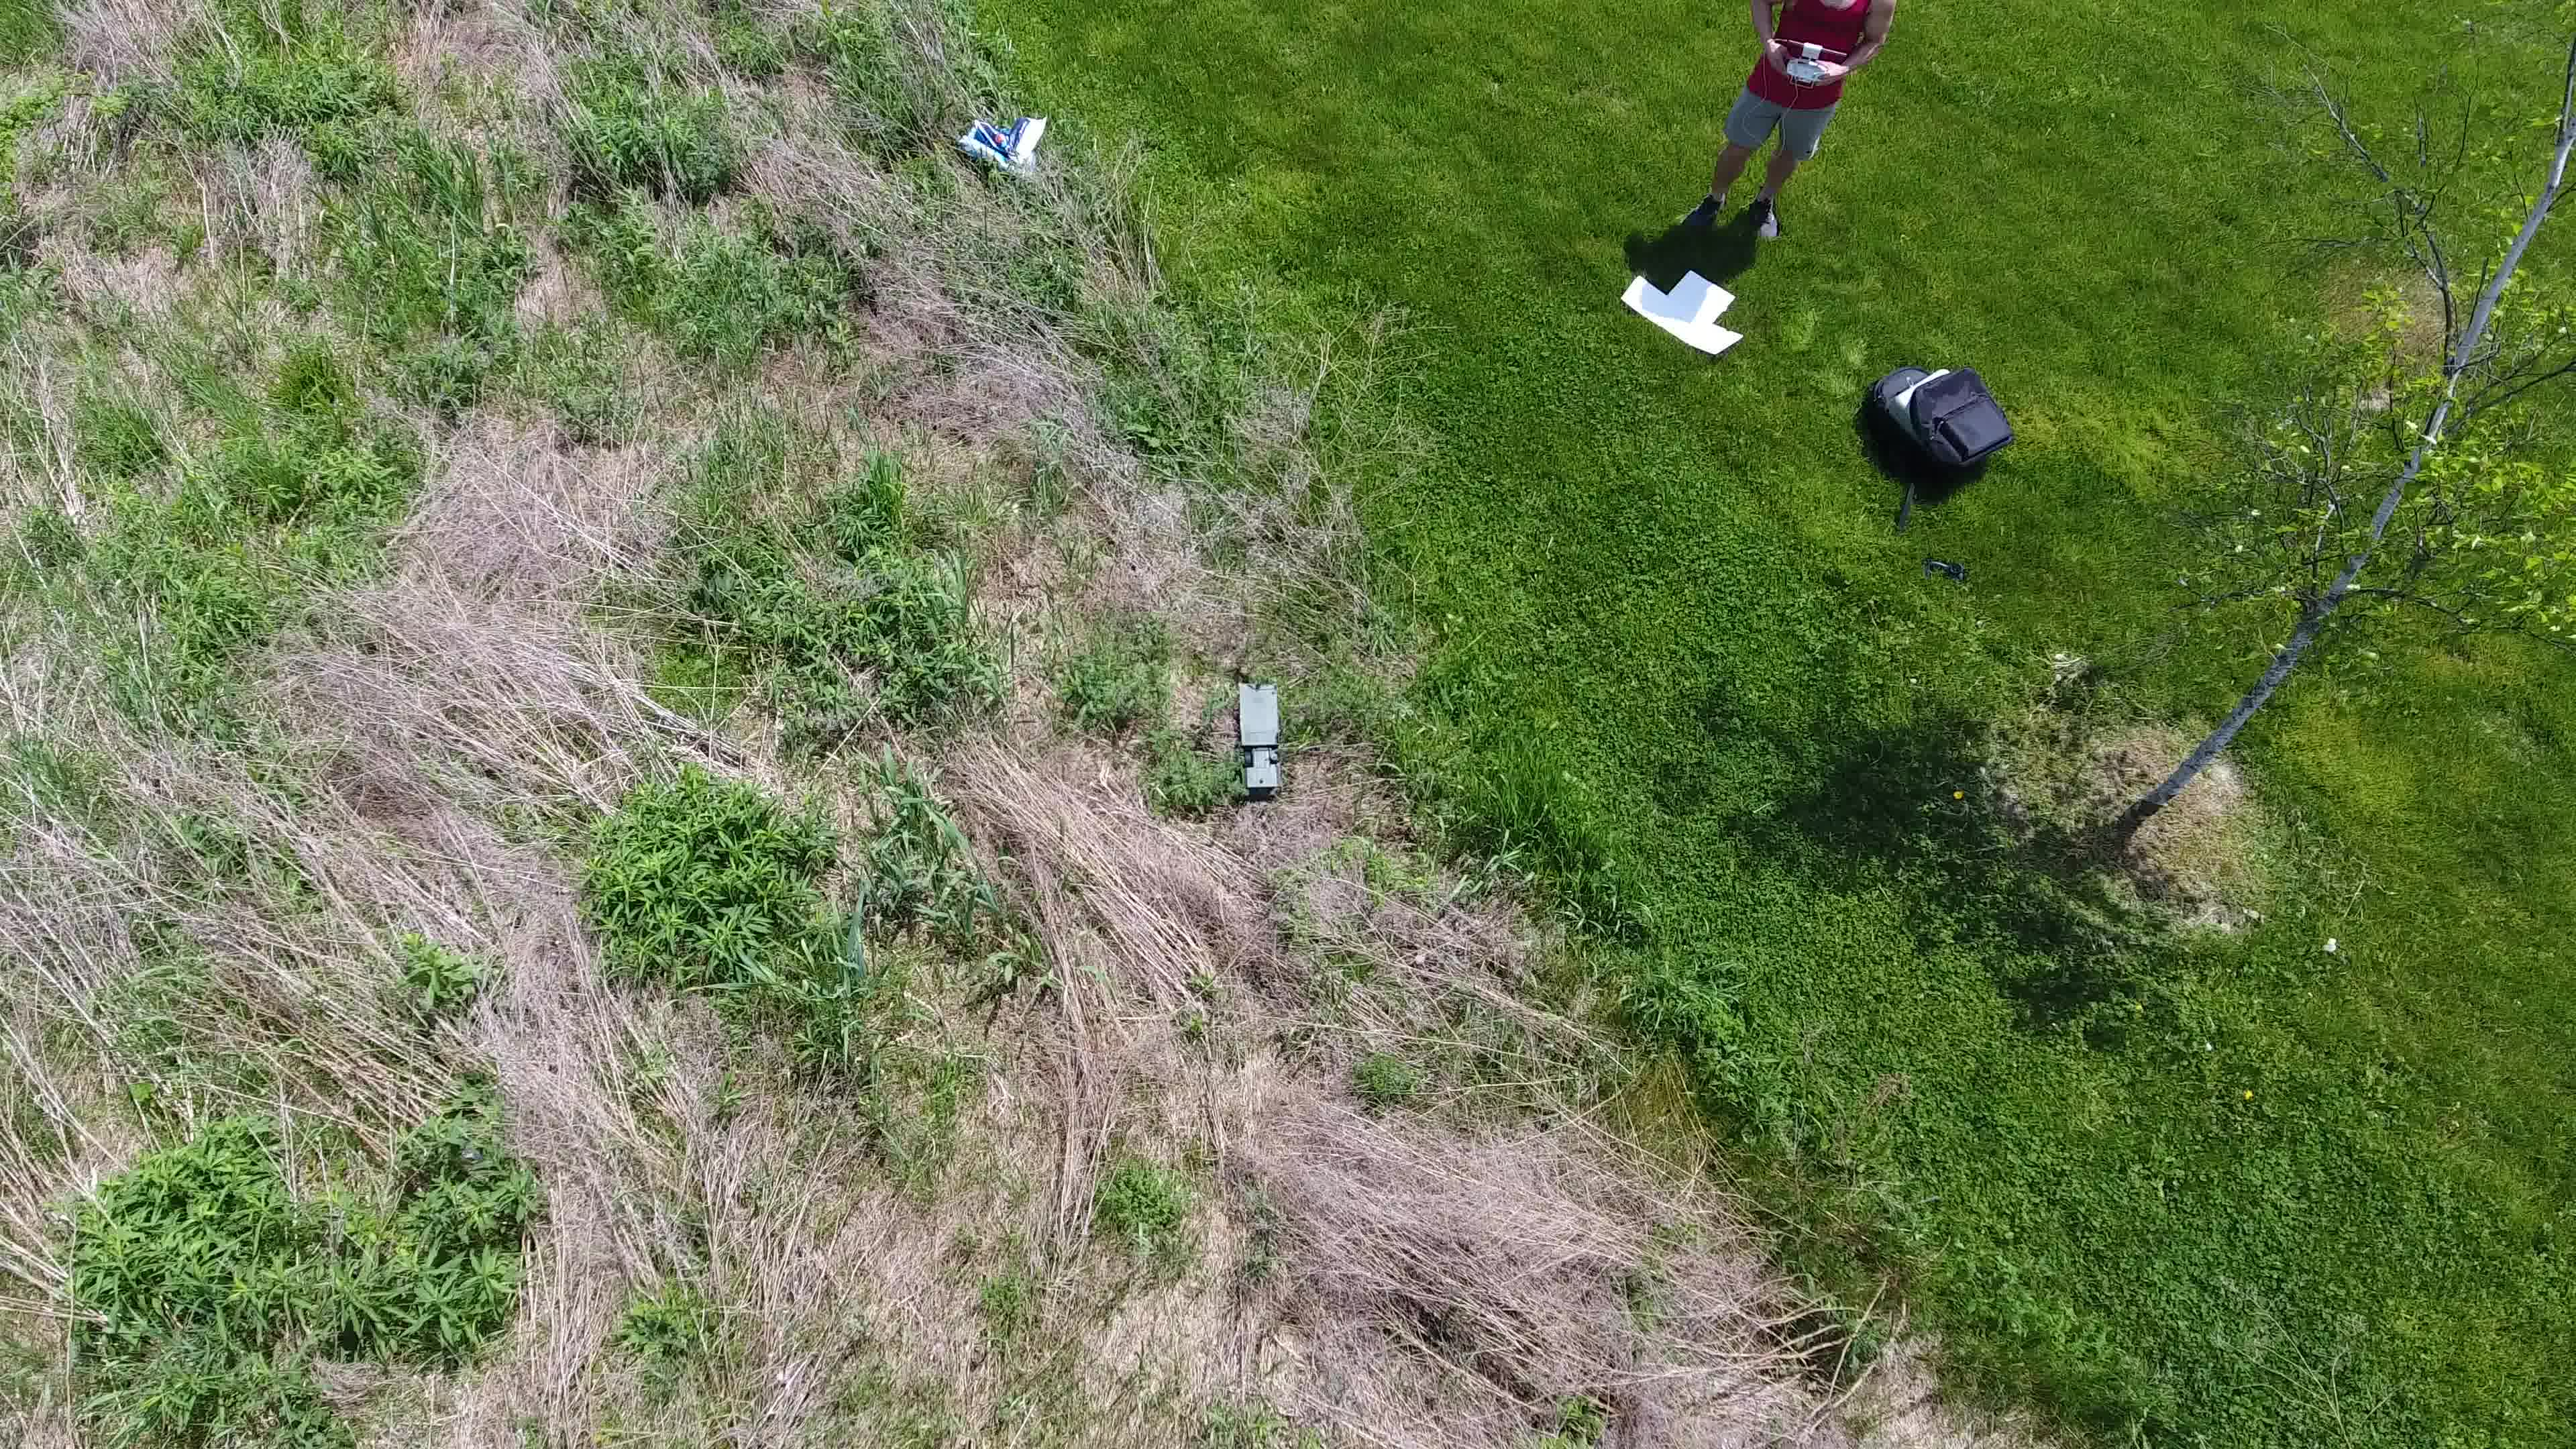transporter9: (1233, 679, 1286, 798)
